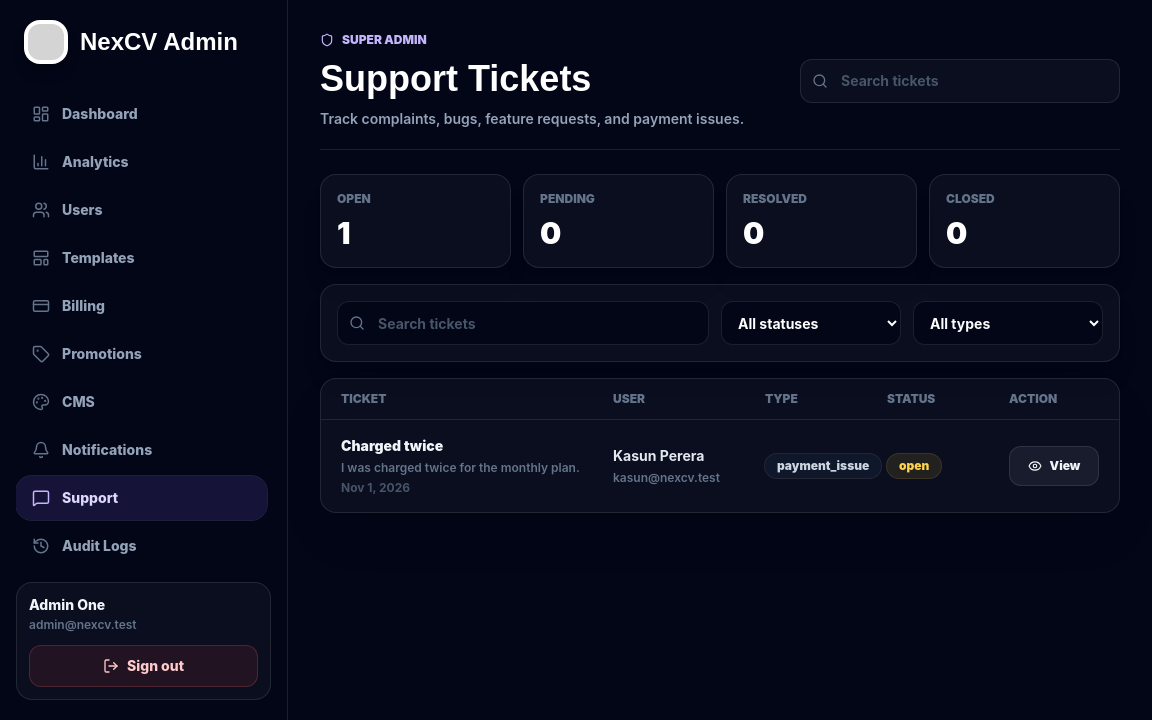
it: AdminDashboard support › sends a reply and clears the reply box
Check: the text "Charged twice" is shown, box x1=341 y1=437 x2=443 y2=454
Click the button "View" at (1054, 466), box x1=1009 y1=446 x2=1099 y2=486
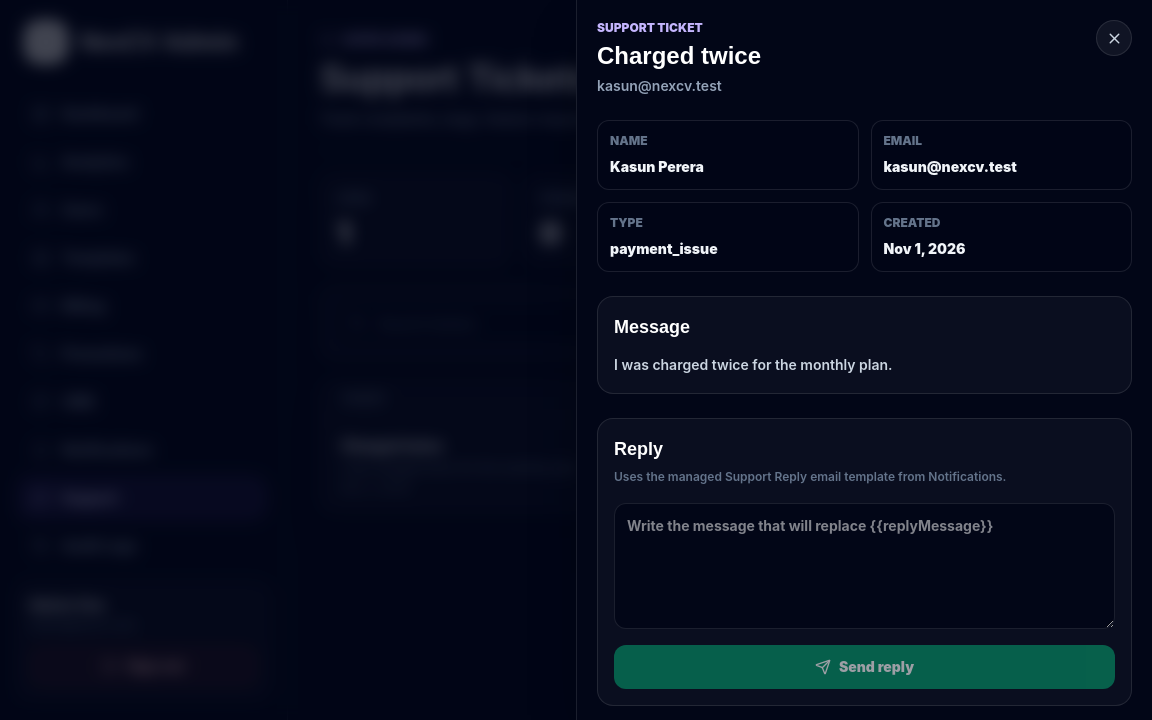
Check: the button "Send reply" is disabled, box x1=614 y1=645 x2=1115 y2=689
Type "We refunded the duplicate charge." into the text box with placeholder "Write the message that will replace {{replyMessage}}" at (864, 566), box x1=614 y1=503 x2=1115 y2=629
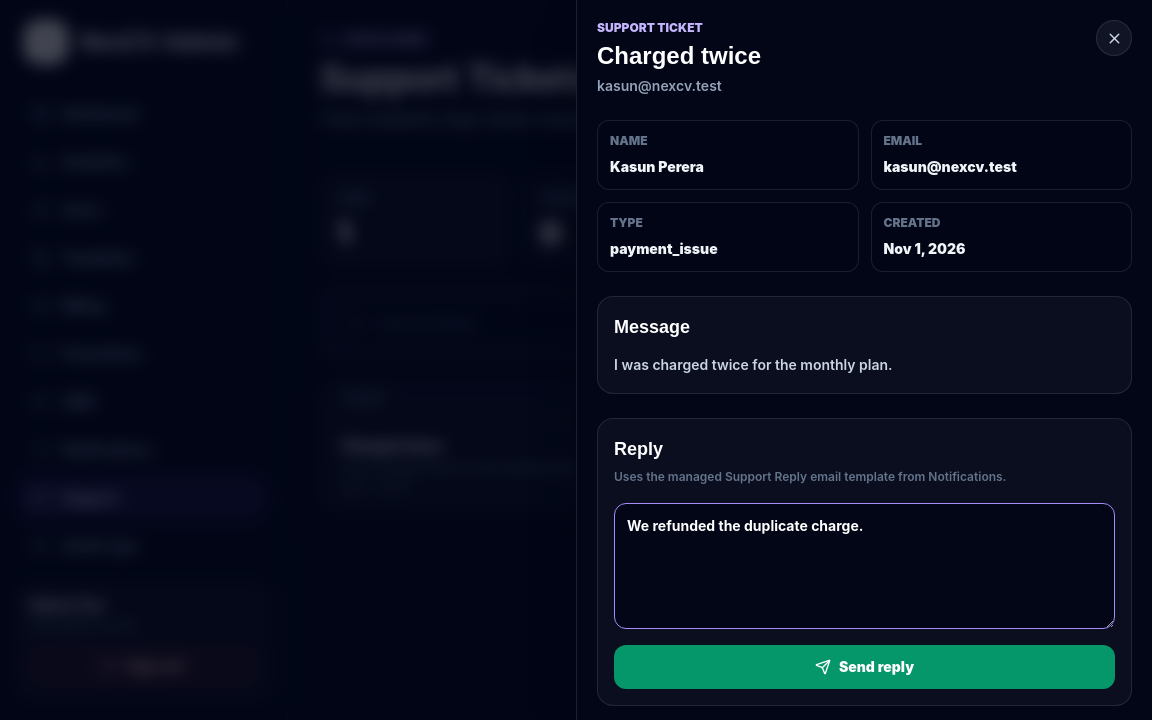
Click the button "Send reply" at (864, 667), box x1=614 y1=645 x2=1115 y2=689
(page scrolled)
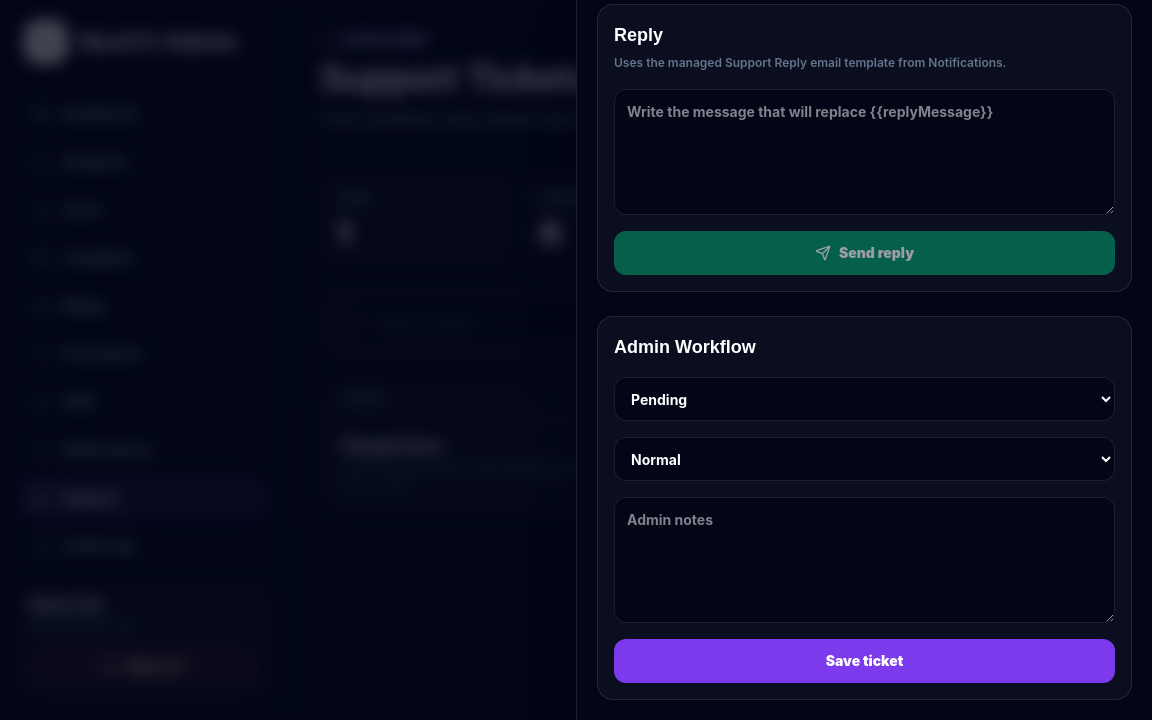
Check: the text box with placeholder "Write the message that will replace {{replyMessage}}" is empty, box x1=614 y1=89 x2=1115 y2=215
Check: the 1st dropdown showing "Pending" is shown, box x1=614 y1=377 x2=1115 y2=421
